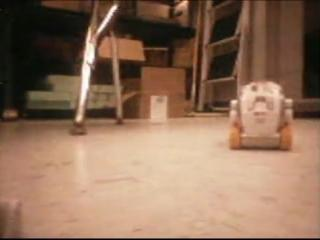cozmo: (228, 79, 294, 151)
